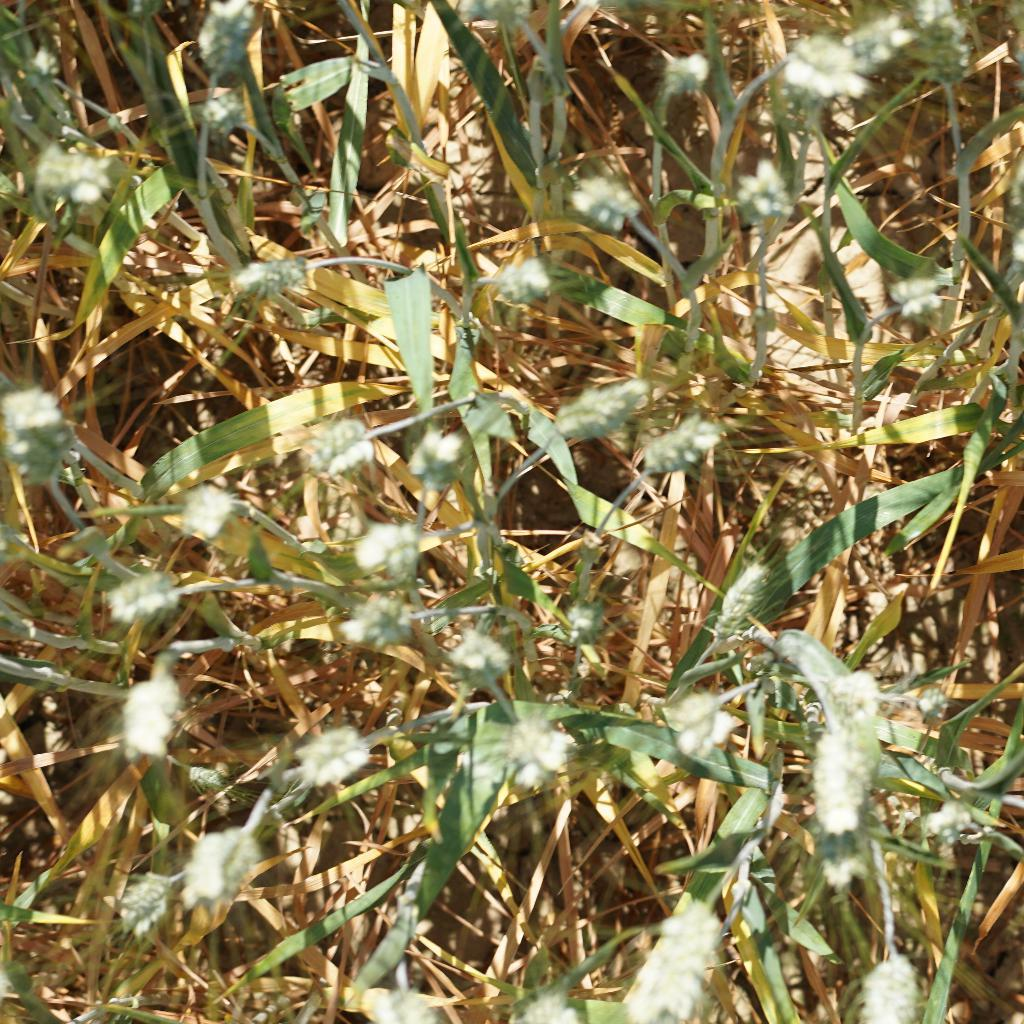0-0: (642, 899, 728, 1023), (808, 720, 885, 840), (19, 130, 141, 201), (651, 679, 759, 754), (705, 553, 784, 645), (179, 817, 261, 904), (109, 666, 187, 757), (182, 0, 266, 82), (438, 624, 527, 698), (885, 268, 972, 343), (900, 0, 978, 81), (731, 148, 807, 231), (776, 33, 869, 100), (613, 422, 735, 473), (490, 716, 576, 788), (555, 377, 646, 445), (0, 381, 78, 460), (299, 724, 384, 793), (216, 243, 318, 299), (855, 935, 919, 1024), (387, 421, 464, 494), (565, 163, 645, 231), (93, 571, 191, 626), (302, 411, 382, 477), (343, 593, 421, 653), (178, 485, 247, 548), (843, 0, 914, 60), (496, 978, 586, 1024), (479, 253, 561, 303), (351, 518, 417, 578), (823, 665, 890, 724), (656, 40, 717, 103), (111, 873, 178, 929), (367, 983, 456, 1024), (810, 849, 874, 901), (925, 799, 979, 855), (193, 89, 254, 135), (559, 586, 604, 647)
